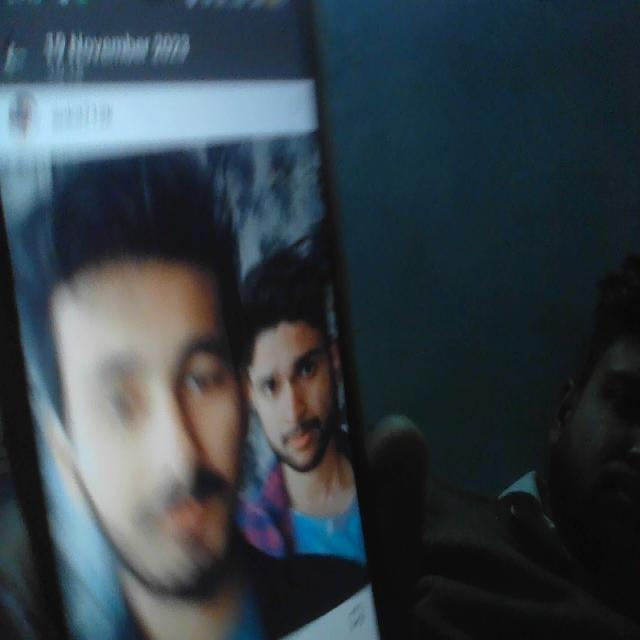fake: (33, 148, 279, 612), (234, 242, 369, 498)
